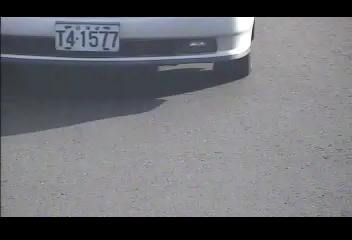plate: (53, 22, 121, 54)
